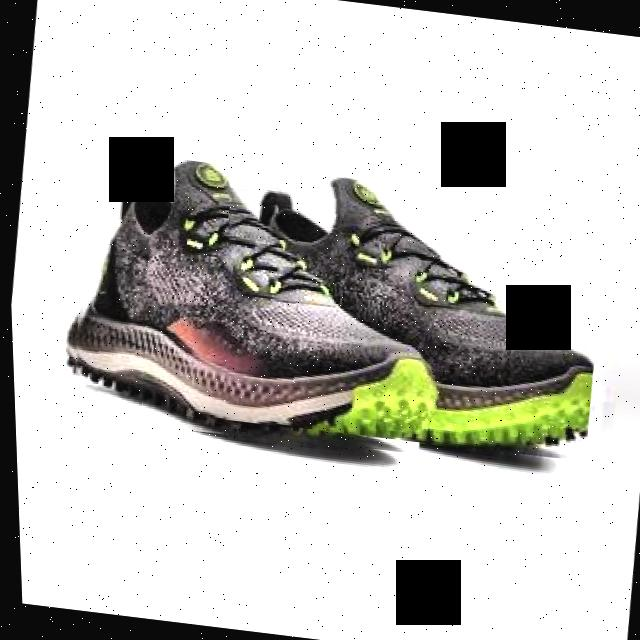shoe: (197, 163, 612, 463), (52, 147, 447, 460)
